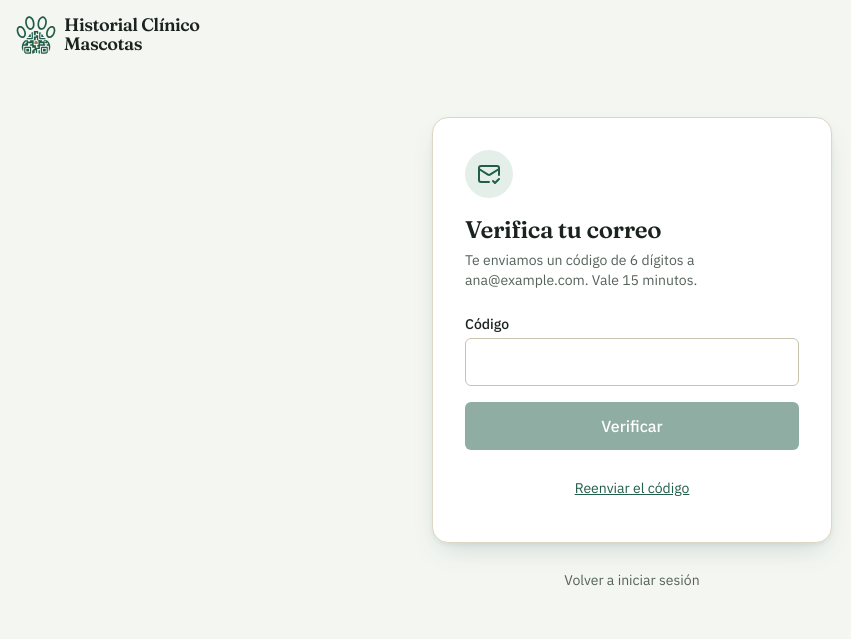
Test: PaginaVerificacionCorreo › un código equivocado muestra el error y no da sesión
The image size is (851, 639).
In the field labelled "Código": (632, 362) [465,338,799,386], type "000000"
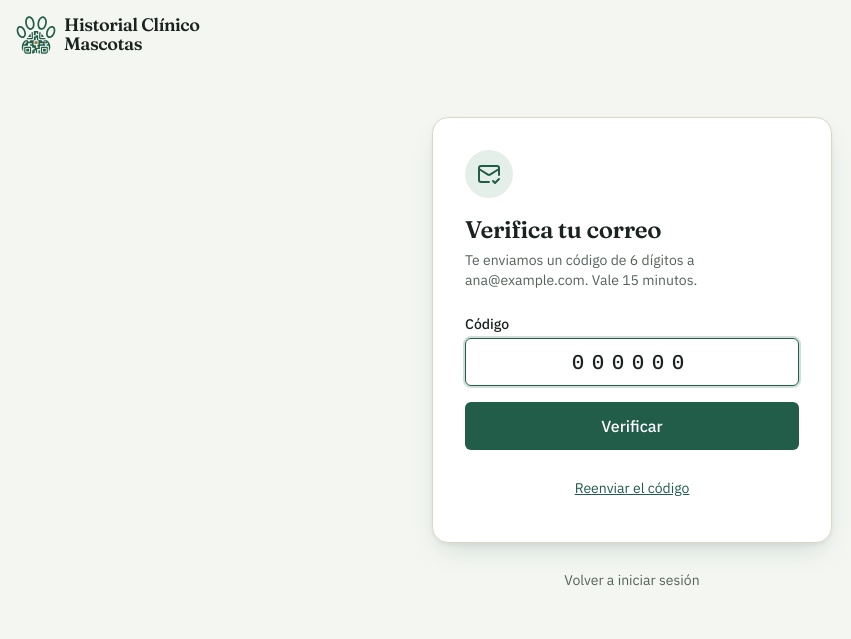
Click the button "Verificar": (632, 426) [465,402,799,450]
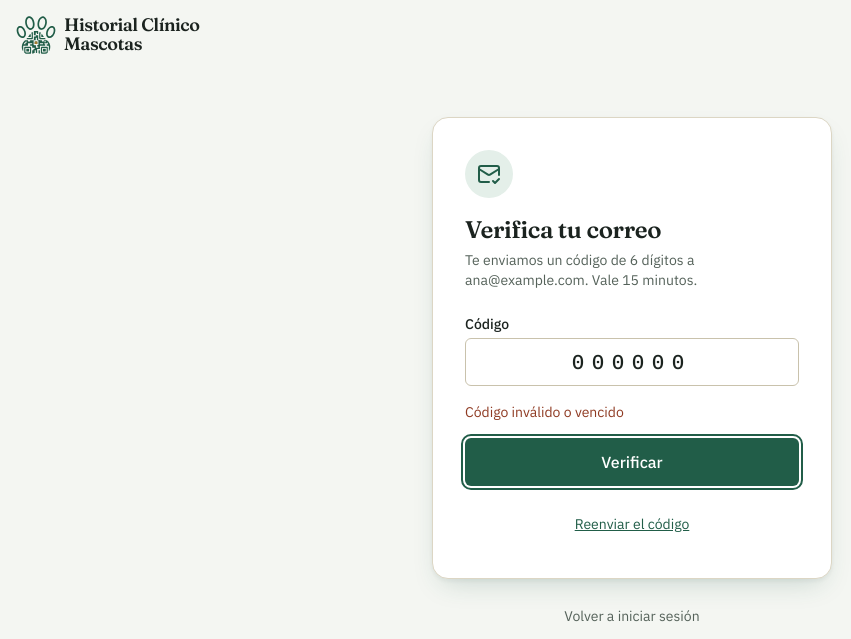
Expected: the message reads "Código inválido o vencido", [465,403,624,421]
